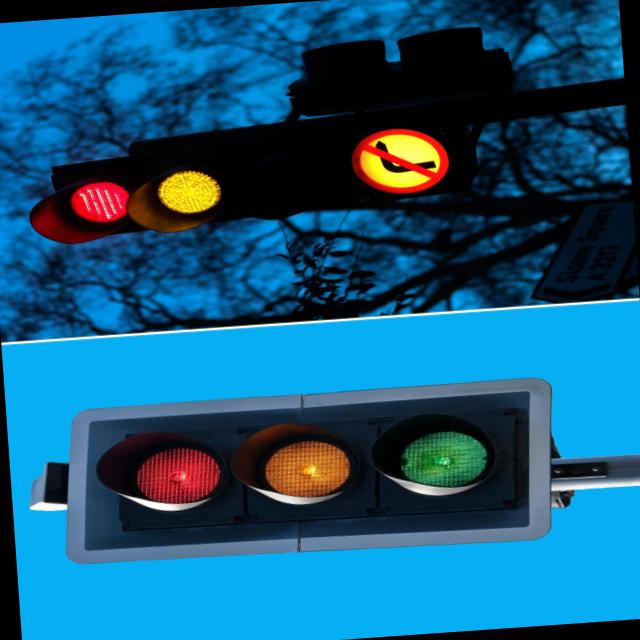green-lights: (396, 426, 491, 491)
red-lights: (130, 442, 222, 505), (68, 180, 130, 222)
yellow-lights: (258, 434, 356, 500), (156, 168, 220, 213)
